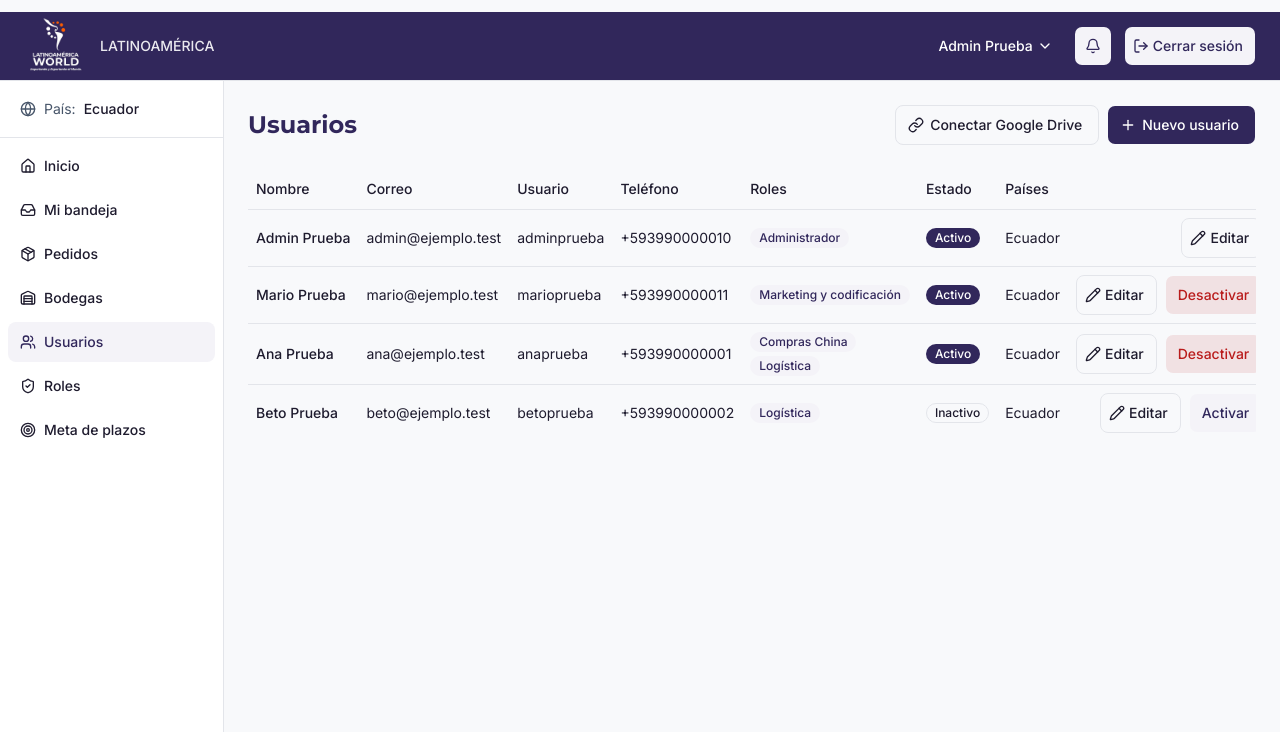
it: Conexión con Google Drive desde Usuarios › no navega si el servidor devuelve otro destino
Click the button "Conectar Google Drive" at (997, 125), box [895,105,1099,145]
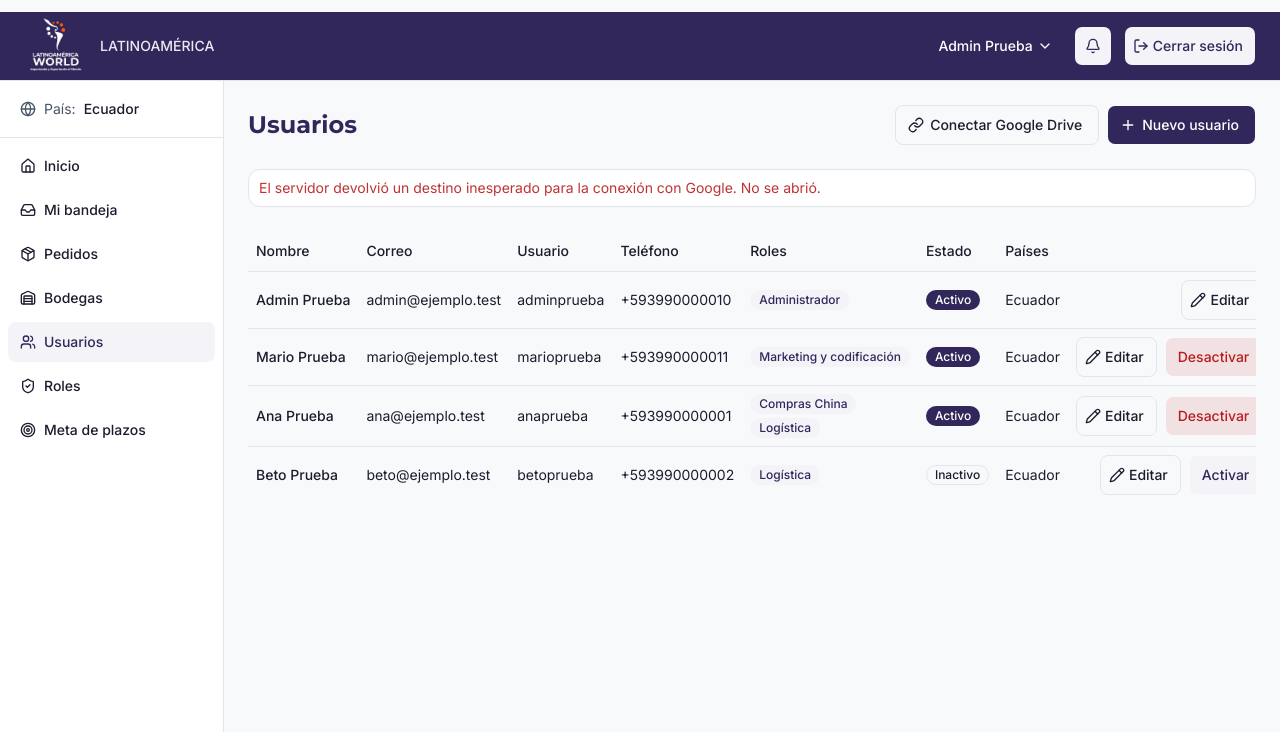
Expected: the text "destino inesperado" is shown, [259,179,821,196]
